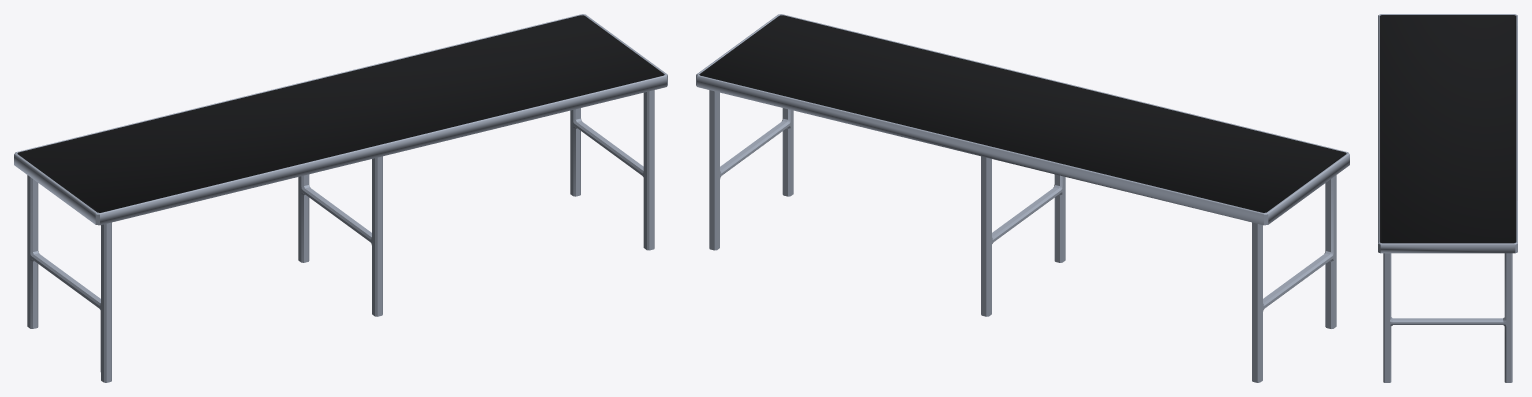
File: Table.glb
The picture shows the model from 3 angles, left to right: view 1: azimuth 30°, elevation 25°; view 2: azimuth 150°, elevation 25°; view 3: azimuth 270°, elevation 25°; orthographic projection. The views are drawn at different scales.
Parts seen in each view (by area): view 1: BeerTable; view 2: BeerTable; view 3: BeerTable.
Part boxes in pixels (<box>): BeerTable: <box>14,14,667,382</box>; BeerTable: <box>696,14,1349,382</box>; BeerTable: <box>1378,14,1517,382</box>.
Size of the model in its own units: 2.86 by 0.83 by 0.7334.
Materials: 1 (1 with a texture image).
